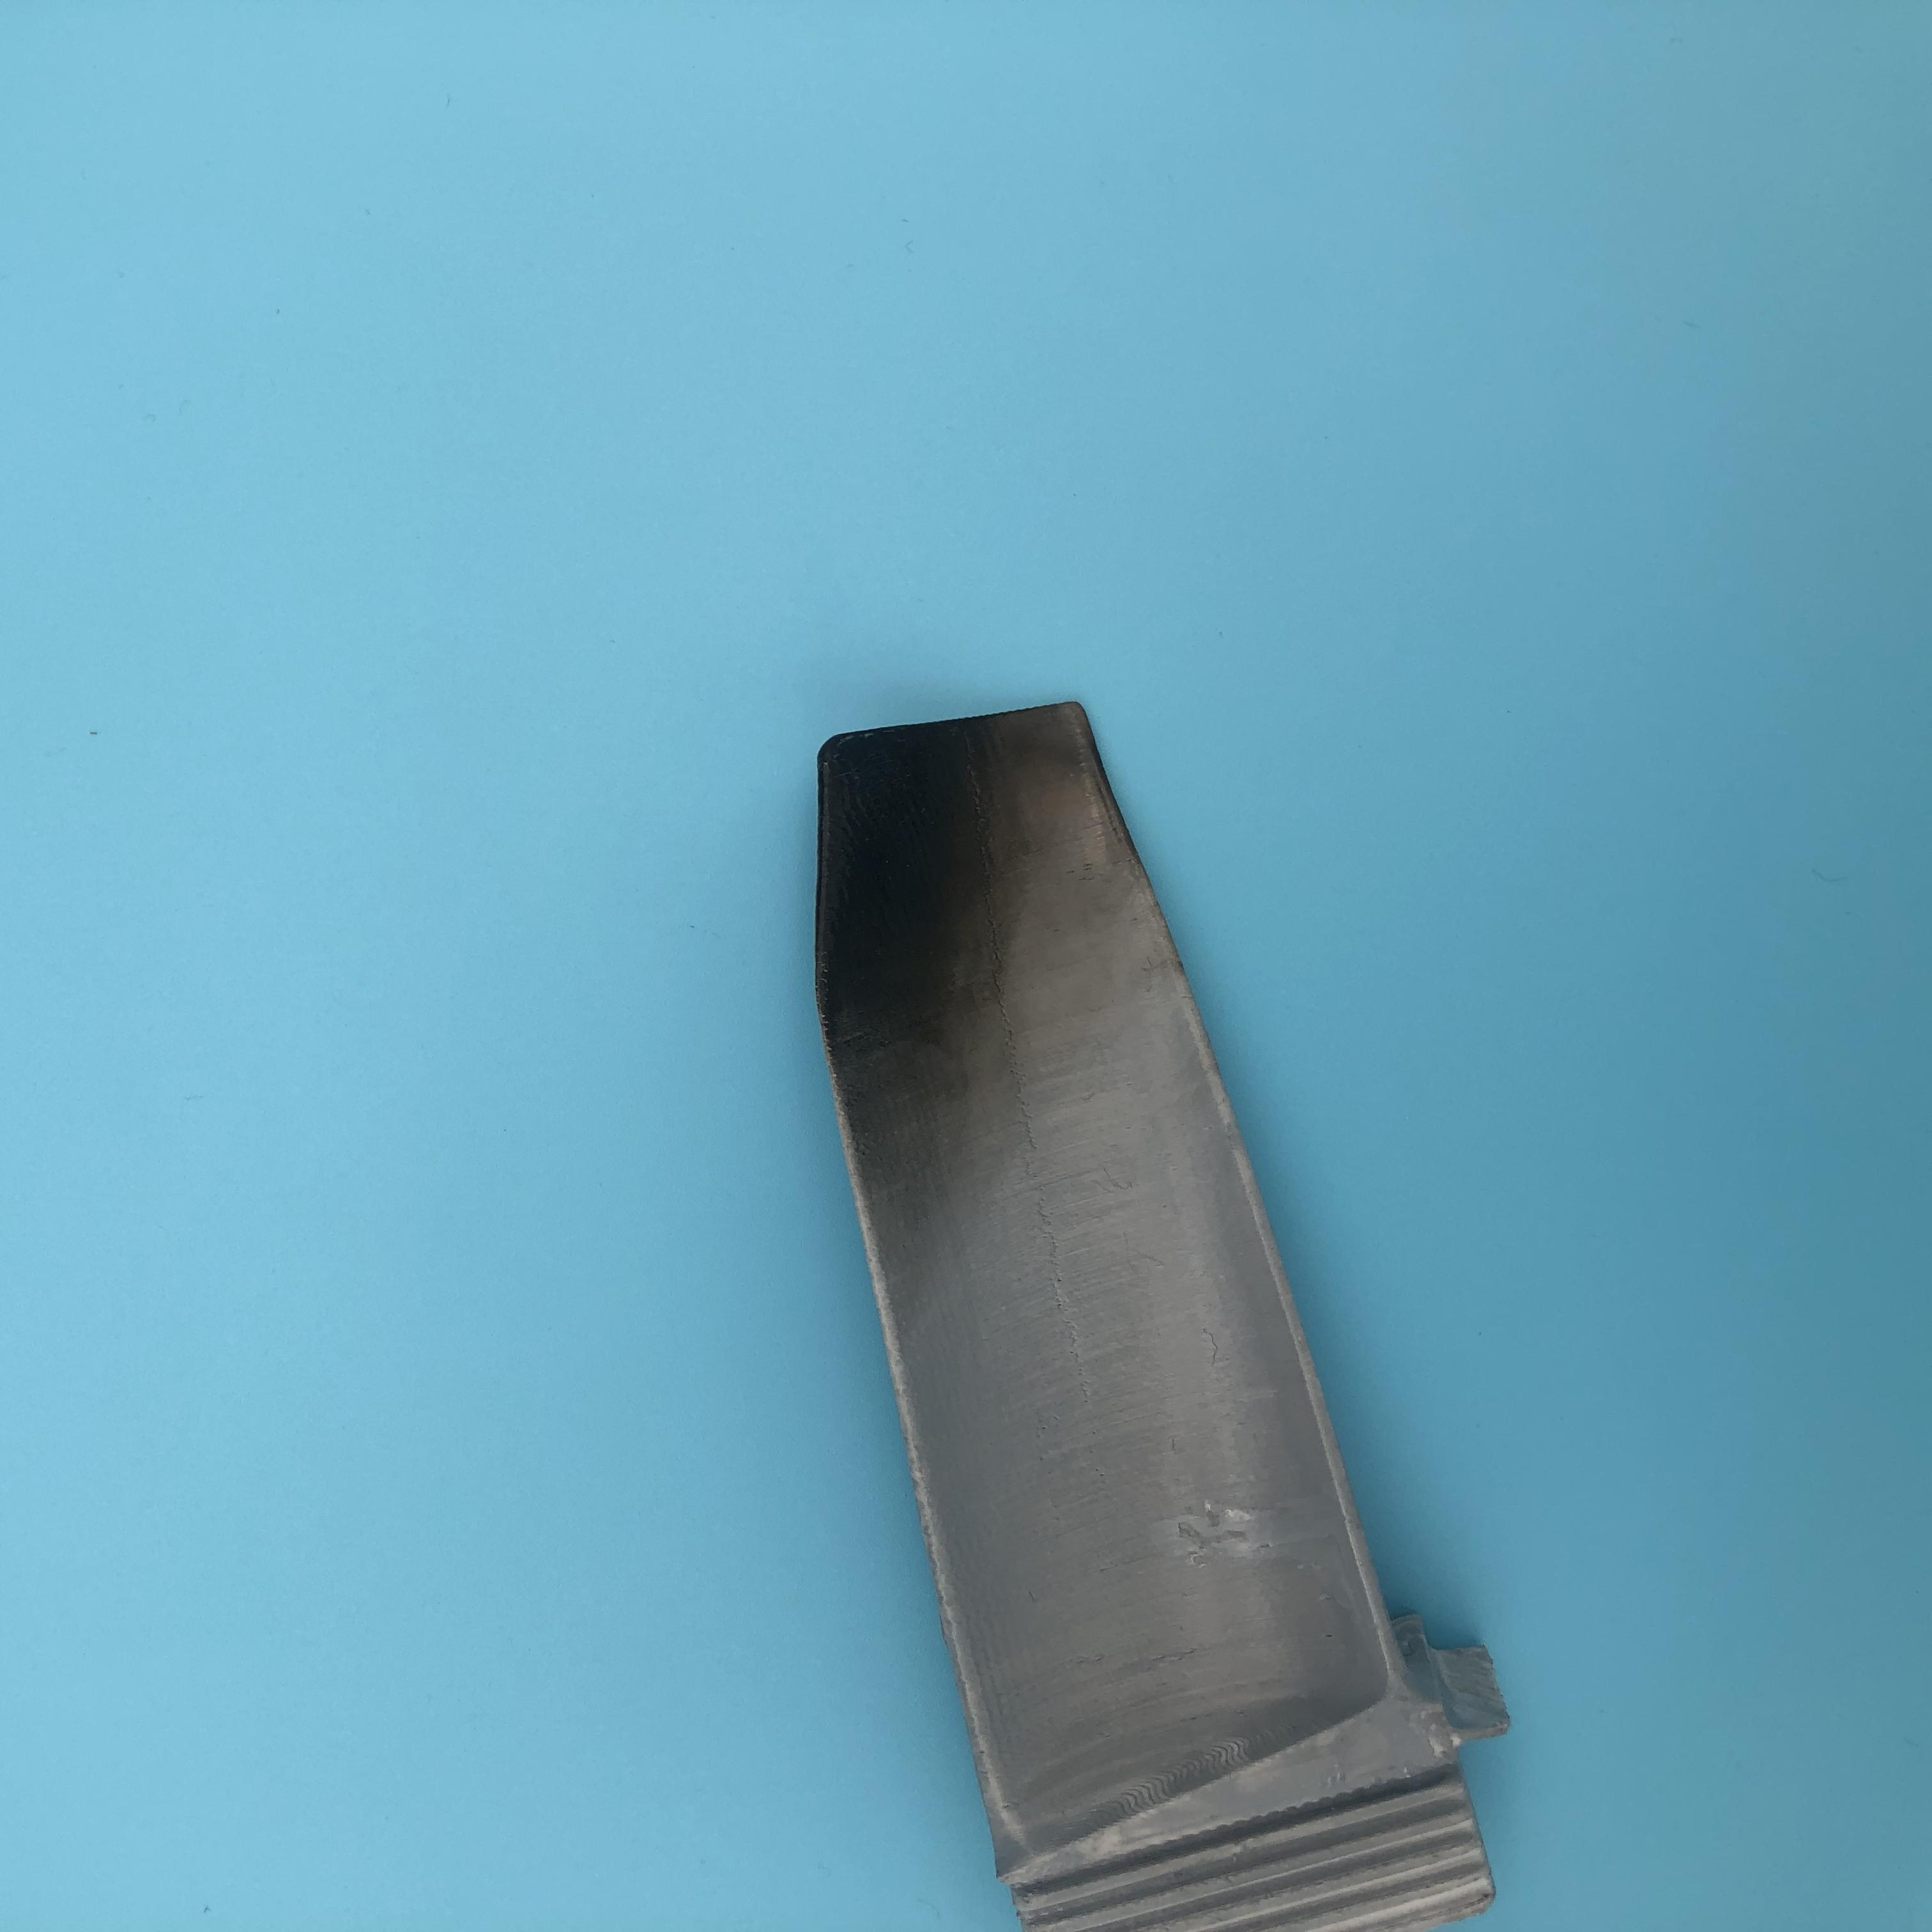ablation: (809, 720, 1139, 1146)
